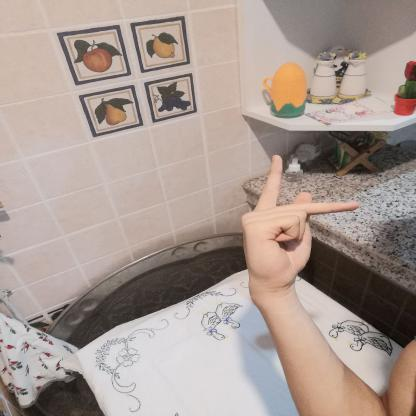DHAA: (228, 147, 369, 298)
